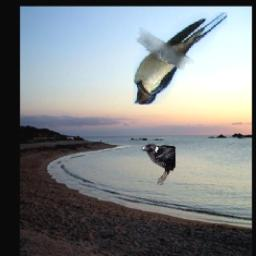Crow: (141, 144, 175, 186)
Swallow: (133, 13, 227, 106)
